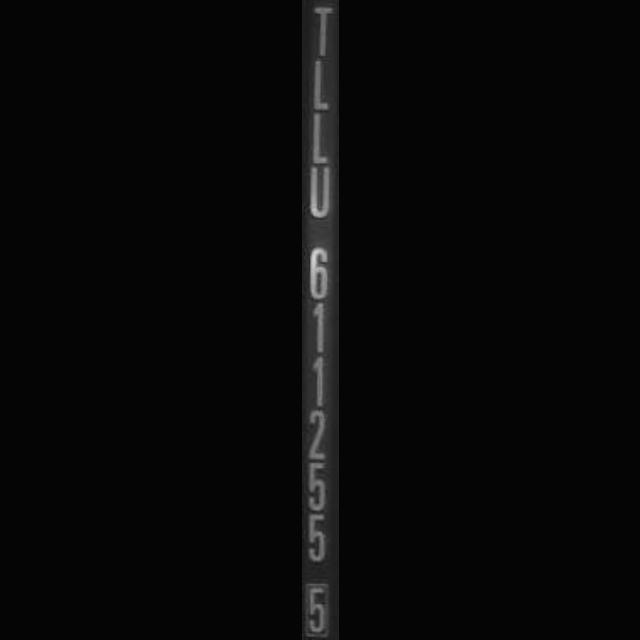1: (302, 298, 338, 356), (302, 352, 338, 404)
2: (302, 404, 338, 458)
5: (302, 574, 338, 640), (302, 508, 338, 566), (302, 456, 338, 512)
6: (302, 242, 338, 302)
l: (302, 106, 338, 168), (302, 56, 338, 114)
t: (302, 0, 338, 56)
u: (302, 162, 338, 222)
